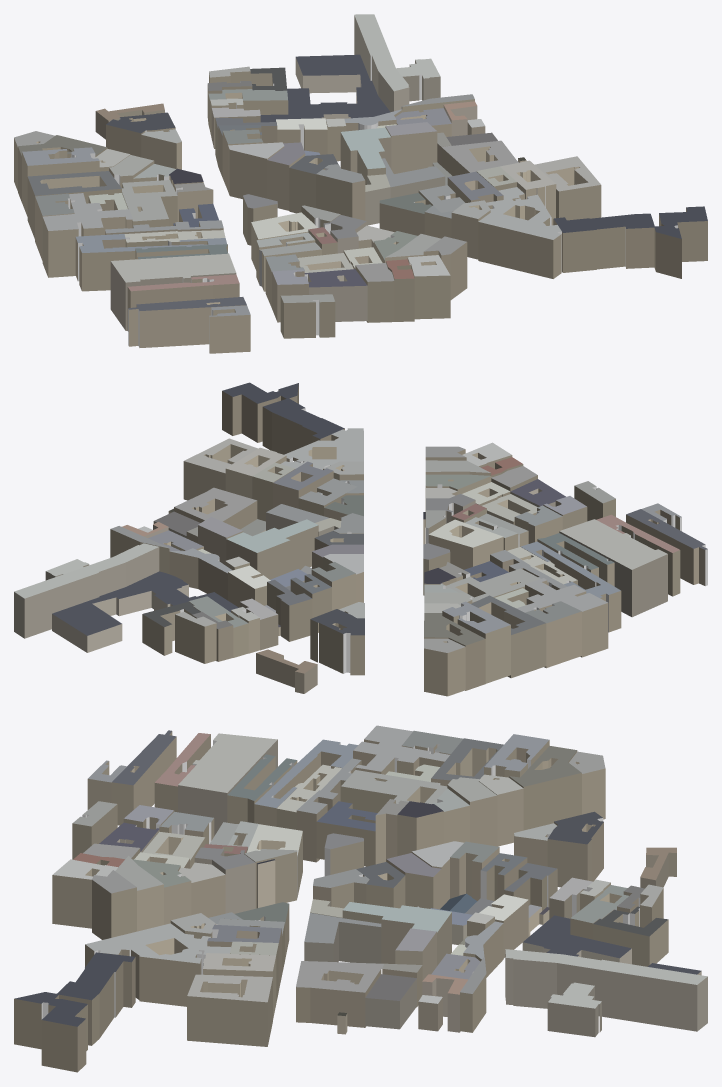
3 views of the same model, one above another, from view 1: azimuth 30°, elevation 25°; view 2: azimuth 150°, elevation 25°; view 3: azimuth 270°, elevation 25° (orthographic). The views are drawn at different scales.
Parts seen in each view (by area): view 1: tuile; view 2: tuile; view 3: tuile.
Part boxes in pixels (left/top/right/bottom): tuile: left=14, top=14, right=707, bottom=353; tuile: left=14, top=382, right=707, bottom=696; tuile: left=14, top=725, right=707, bottom=1072.
Bounding box in the file's own units: 302 × 33.92 × 297.
